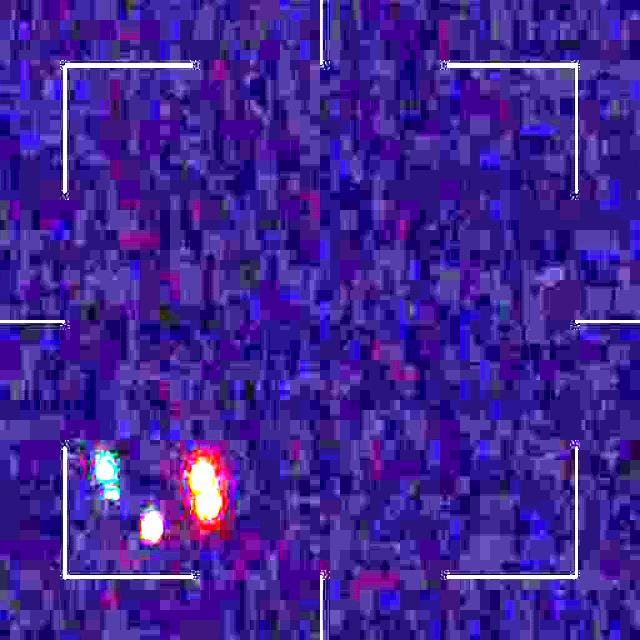bird: (91, 454, 218, 546)
